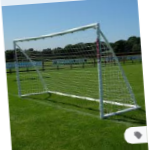goals: (11, 22, 138, 120)
